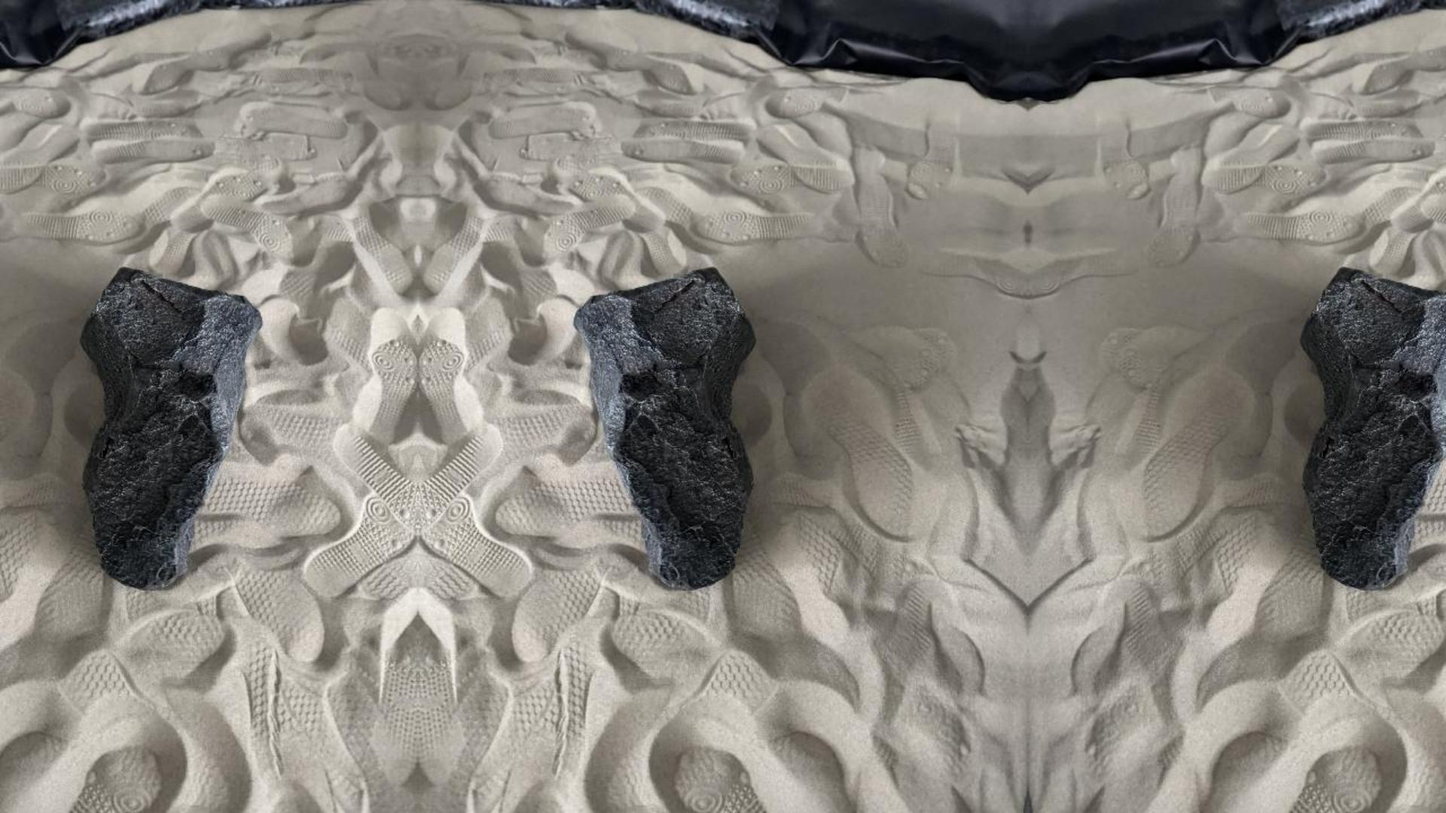rock: (574, 268, 755, 589), (80, 268, 261, 589), (1301, 268, 1445, 589)
